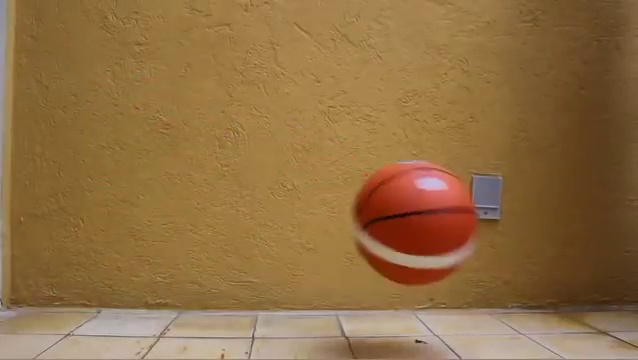ball: (353, 160, 477, 287)
